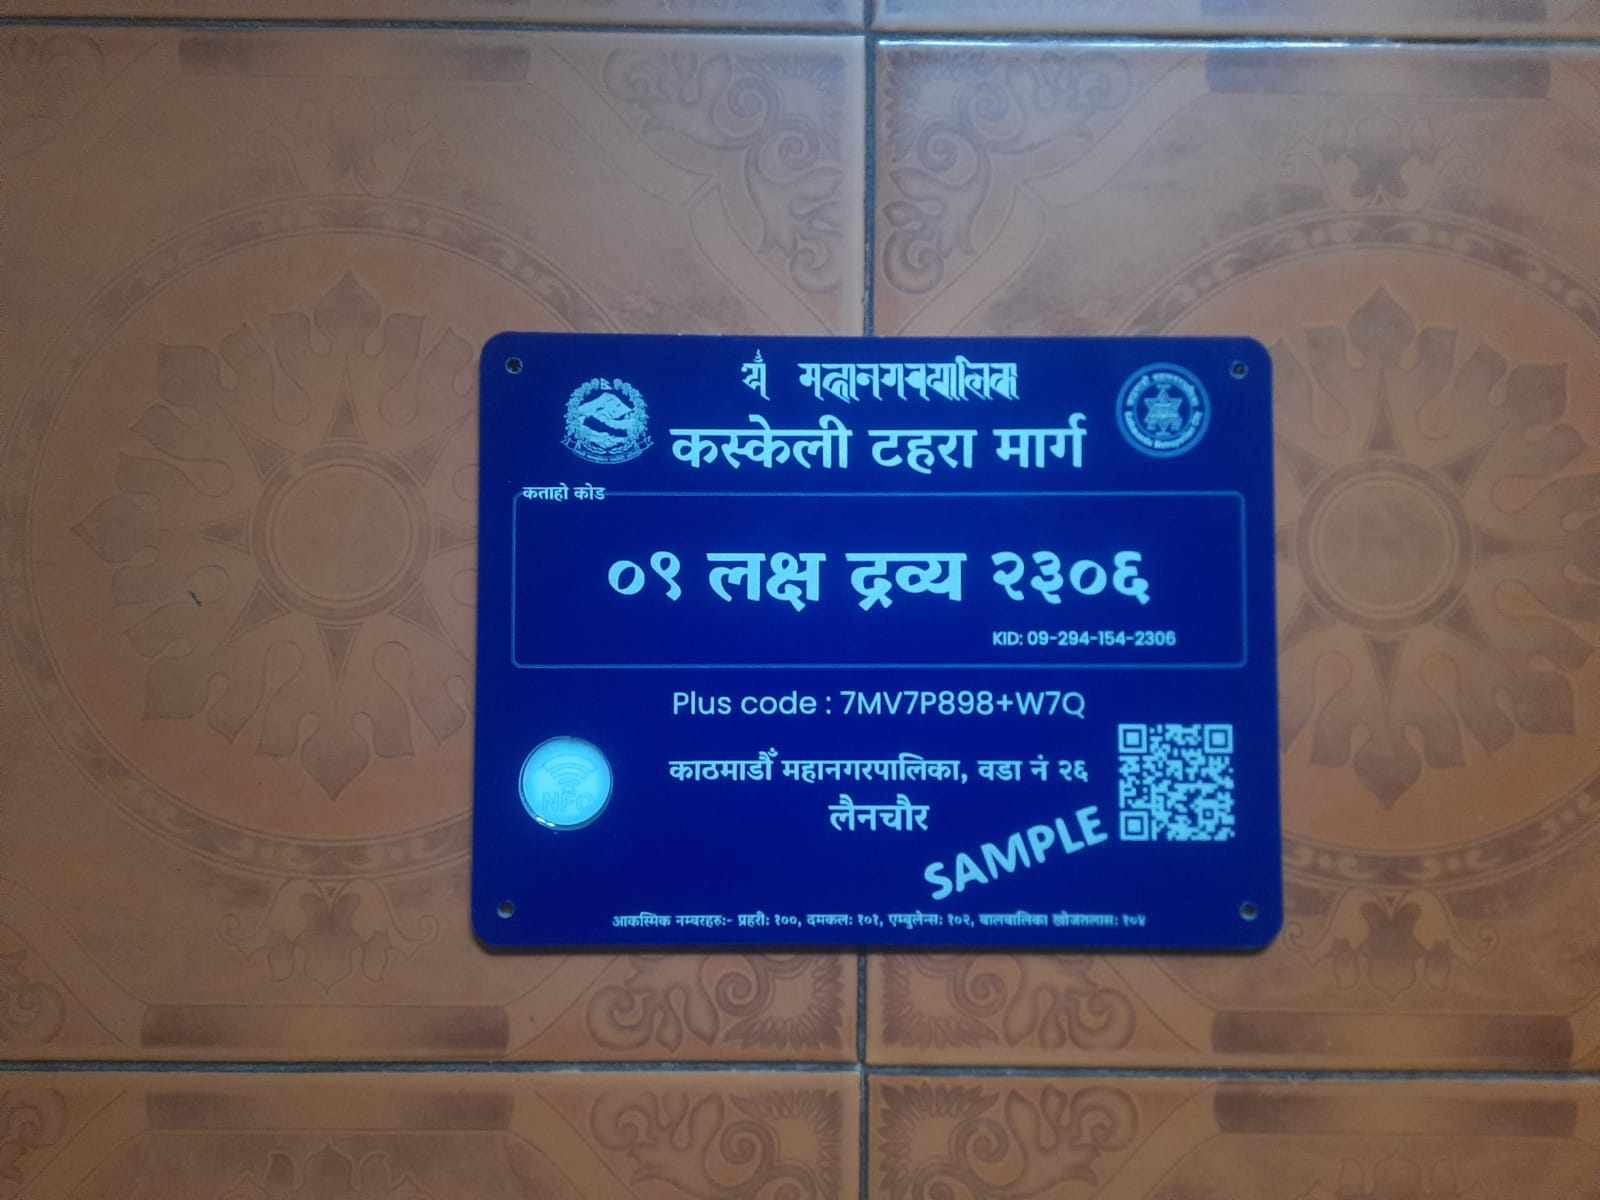Plate: (466, 321, 1279, 947)
